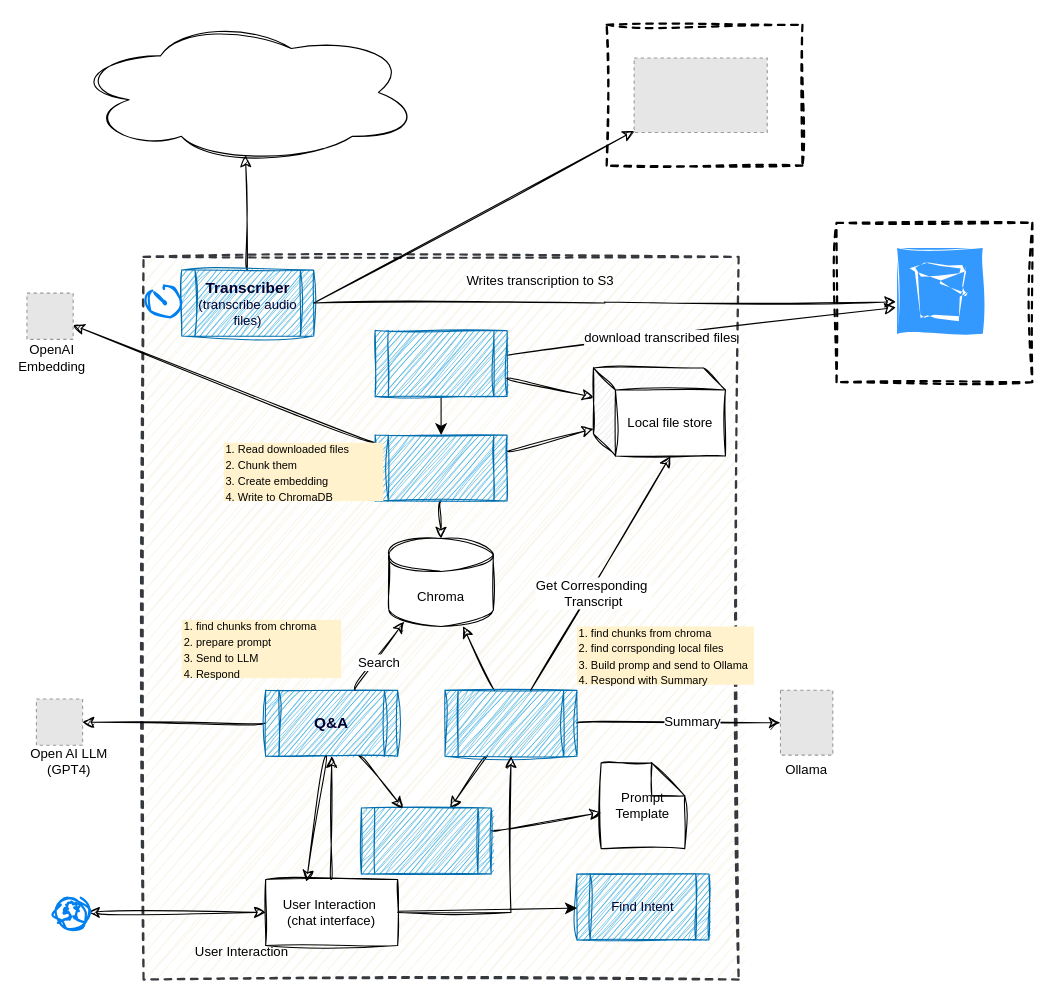
The diagram is 1058 pixels wide and 1000 high, and some of its shapes have lost their labels. Grey dashed boxes stand in for pictures. The centre of each missing label's shape, as x and y in pixels:
"Amazon S3" belongs at pixel 939 301.
"Build Prompt with Context" belongs at pixel 425 840.
"Generate Vector DB" belongs at pixel 440 467.
"Podcast Feeds" belongs at pixel 247 92.
"RAG Driver (app.py)" belongs at pixel 440 363.
"Summarizer" belongs at pixel 510 722.
